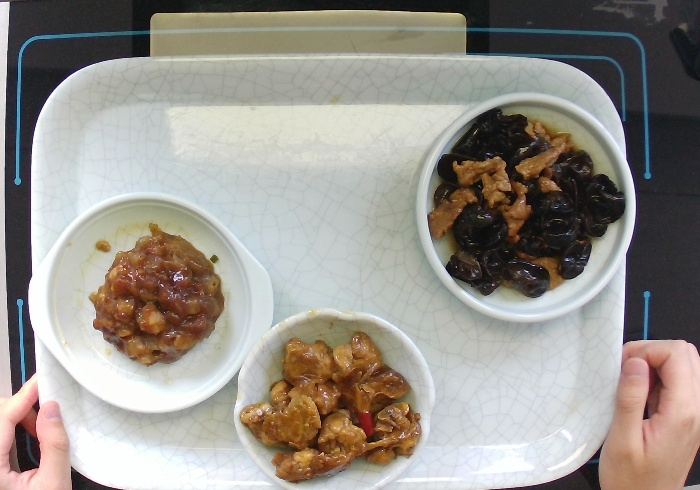JYsf-Ao_Yuan_Wan: (231, 305, 437, 490)
JYsf-Shuang_Er_Pan: (26, 191, 276, 416)
JYsf-Xiao_Yuan_Pan: (415, 90, 637, 324)
